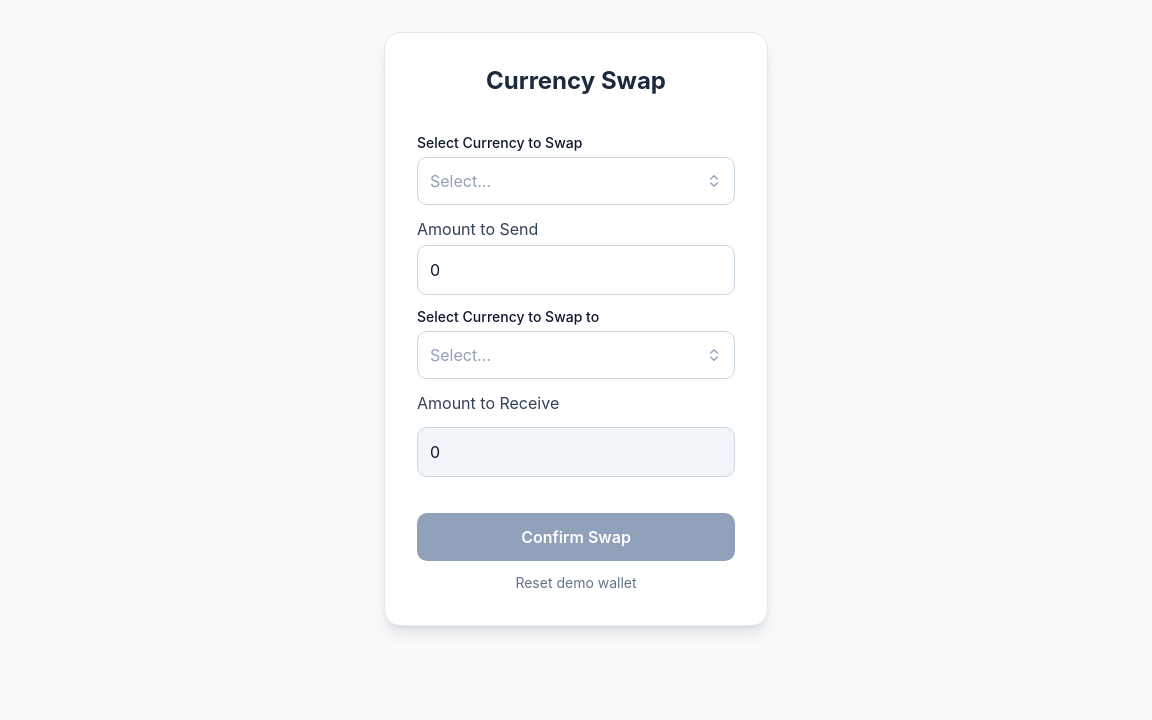
it: Swap form › shows the converted amount from live prices
Click the dropdown named "Select Currency to Swap". click: (460, 181)
box: [417,157,735,205]
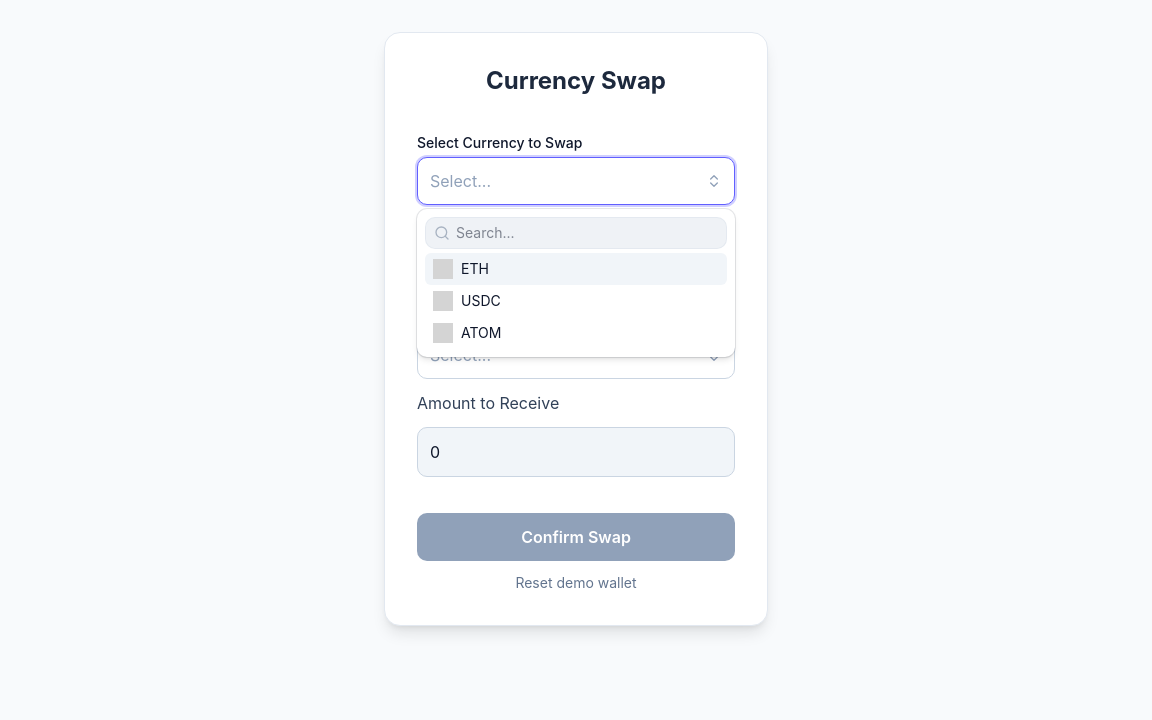
Click the option "ETH". click: (443, 269)
box: [425,253,727,285]
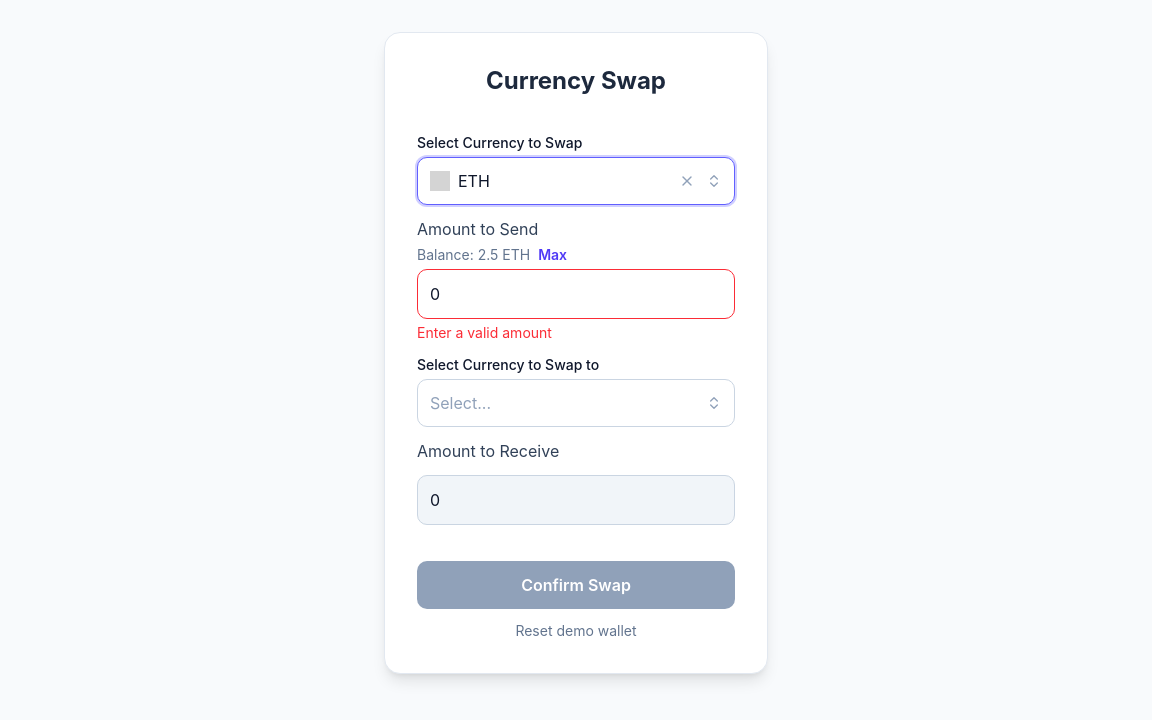
Click the dropdown named "Select Currency to Swap to". click: (460, 403)
box: [417,379,735,427]
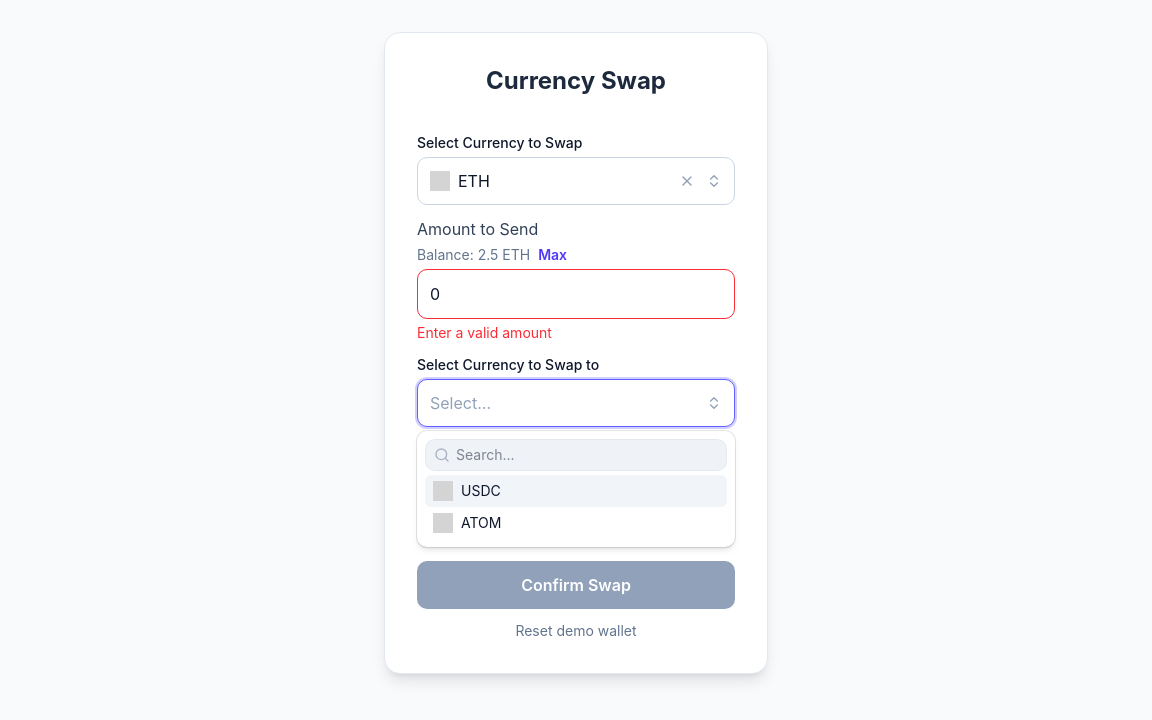
Click the option "USDC". click: (481, 490)
box: [425,475,727,507]
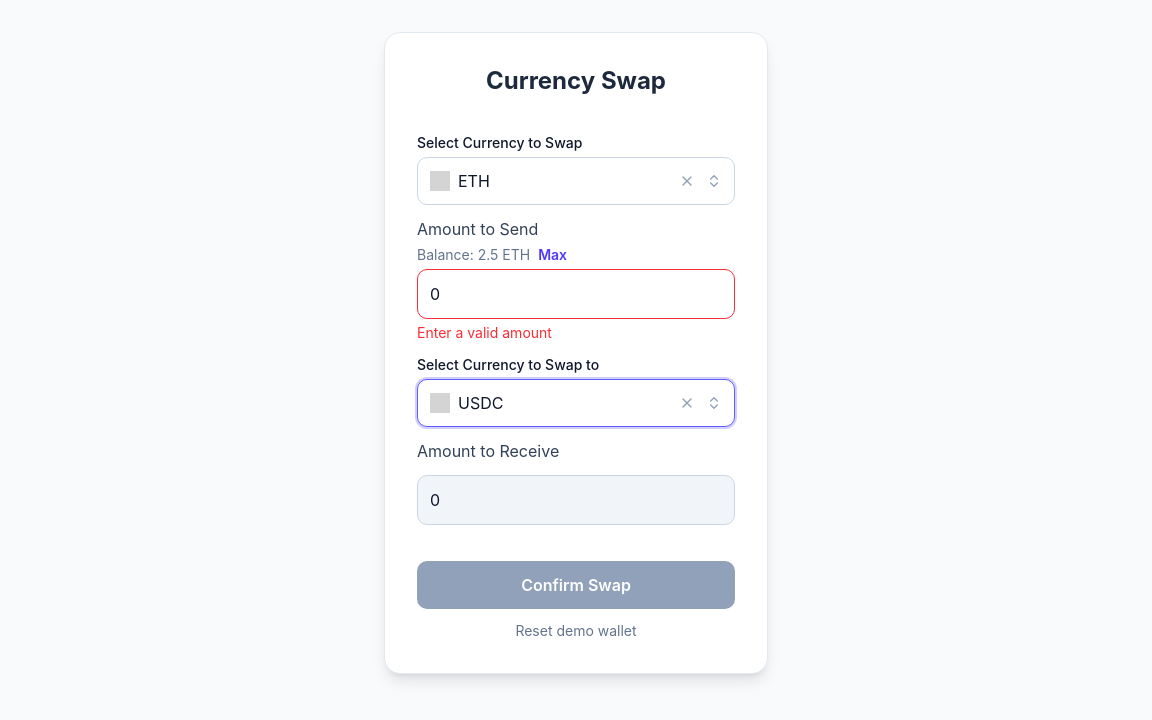
Replace the text in the field labelled "Amount to Send" with "1.5". click: (576, 294)
box: [417,269,735,319]
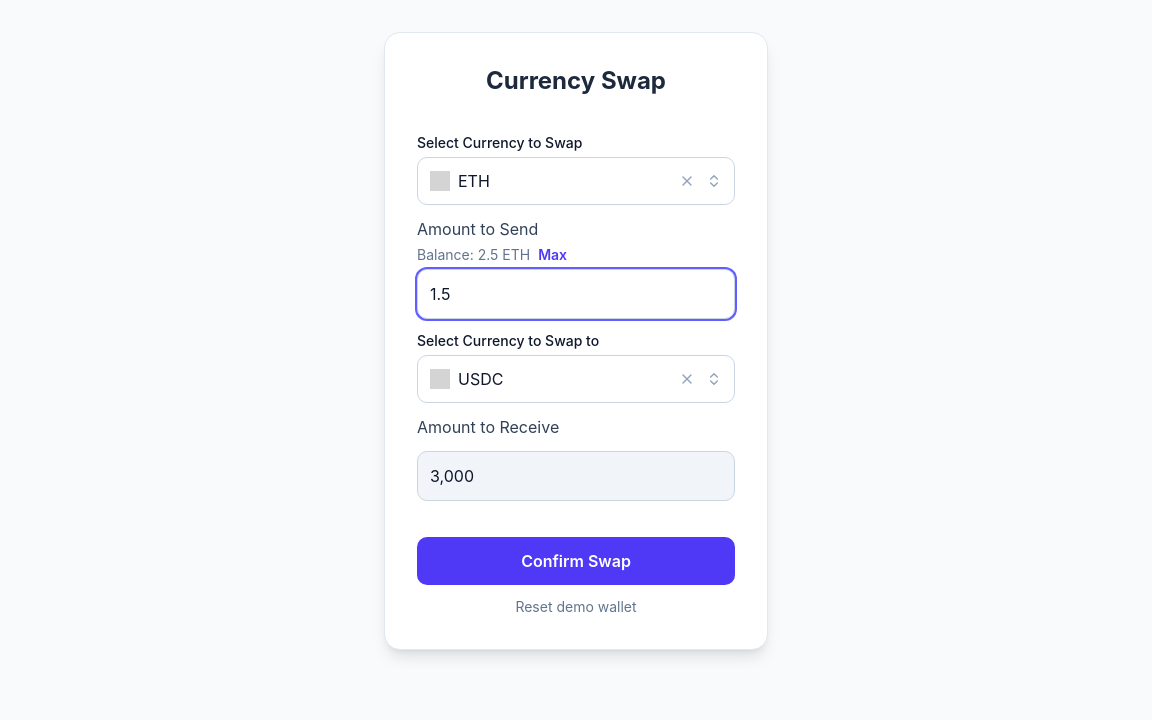
Expected: the field labelled "Amount to Receive" holds "3,000", [417,451,735,501]
Expected: the button "Confirm Swap" is enabled, [417,537,735,585]
